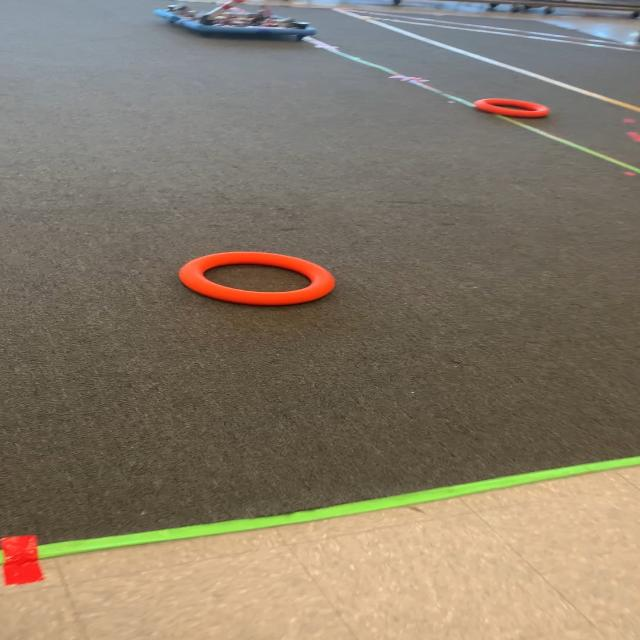notes: (176, 248, 341, 311), (471, 97, 550, 119)
